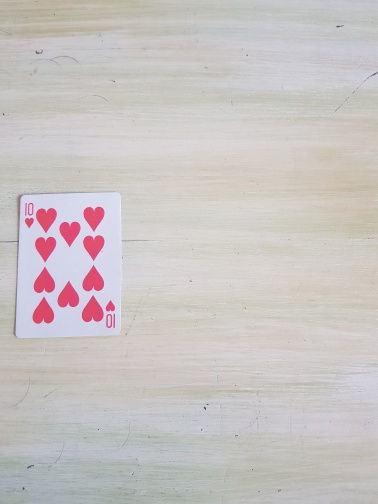ten: (13, 191, 123, 339)
